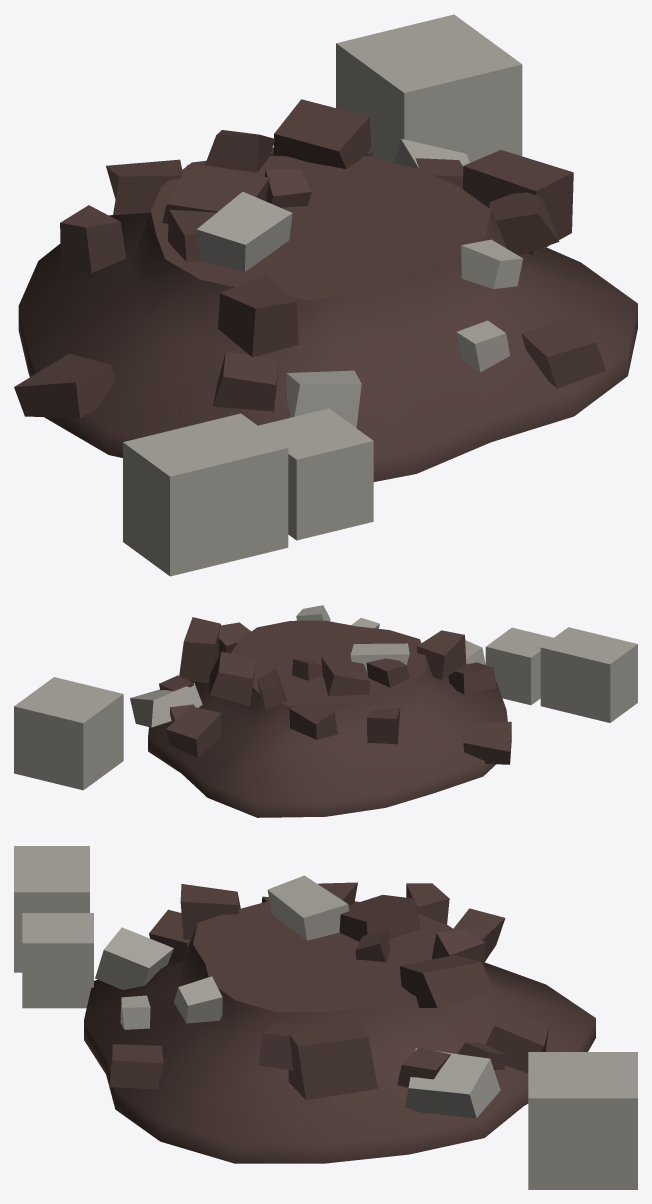
File: site_rom.fbx
The picture shows the model from 3 angles, top to bottom: view 1: azimuth 30°, elevation 25°; view 2: azimuth 150°, elevation 25°; view 3: azimuth 270°, elevation 25°; orthographic projection. The views are drawn at different scales.
Visible parts, largest first — view 1: a1022/0/site_rom; view 2: a1022/0/site_rom; view 3: a1022/0/site_rom.
Part boxes in pixels (bbox=[...]): a1022/0/site_rom: bbox=[14, 14, 637, 576]; a1022/0/site_rom: bbox=[14, 605, 637, 817]; a1022/0/site_rom: bbox=[14, 846, 637, 1189].
Bounding box in the file's own units: 14.8 × 3.46 × 14.8.
